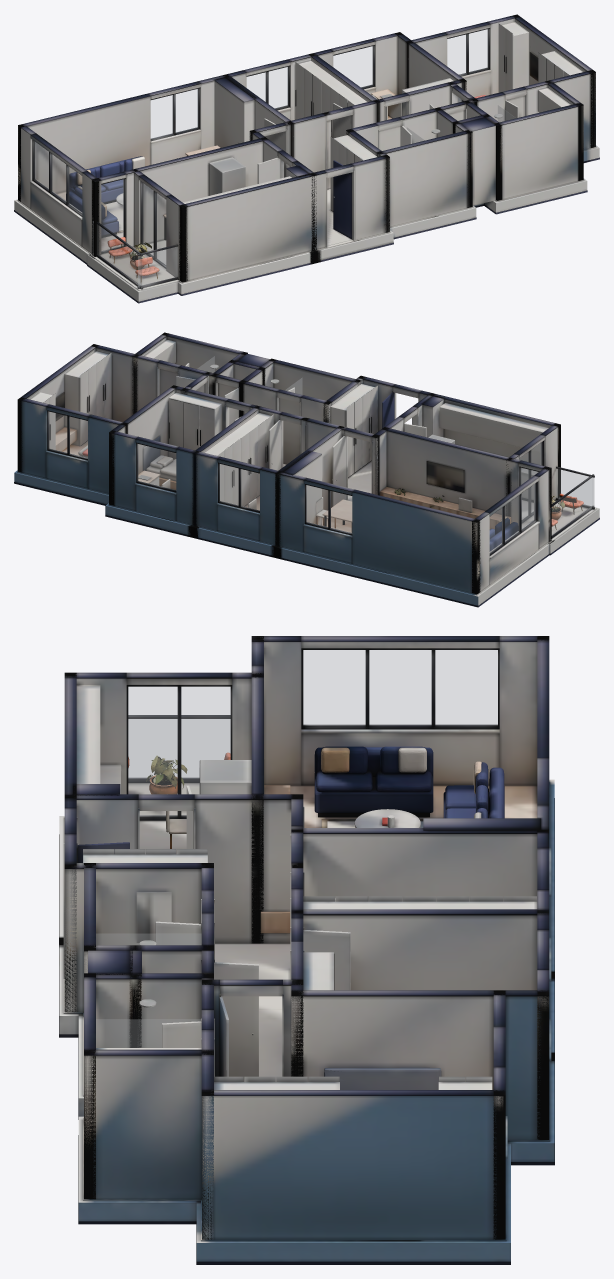
The picture shows the model from 3 angles, top to bottom: view 1: azimuth 30°, elevation 25°; view 2: azimuth 150°, elevation 25°; view 3: azimuth 270°, elevation 25°; orthographic projection. The views are drawn at different scales.
Visible parts, largest first — view 1: plan, glass1_m, glass0_m, glass4_m, glass5_m, railg3_m, glass6_m, railg2_m, glass3_m, glass2_m; view 2: plan, glass1_m, glass0_m, glass2_m, glass3_m, glass4_m, railg3_m, railg2_m, glass6_m; view 3: plan, glass0_m, glass5_m, railg3_m, sg.001_m, sg_m.
Boxes of the visible parts, bbox=[...] form: plan: bbox=[14, 14, 599, 303]; glass1_m: bbox=[151, 89, 198, 138]; glass0_m: bbox=[34, 141, 81, 213]; glass4_m: bbox=[447, 29, 488, 74]; glass5_m: bbox=[142, 182, 165, 265]; railg3_m: bbox=[97, 224, 141, 286]; glass6_m: bbox=[101, 179, 123, 250]; railg2_m: bbox=[138, 247, 177, 286]; glass3_m: bbox=[333, 46, 373, 87]; glass2_m: bbox=[247, 67, 288, 108]; plan: bbox=[14, 332, 599, 607]; glass1_m: bbox=[306, 485, 351, 533]; glass0_m: bbox=[490, 483, 535, 553]; glass2_m: bbox=[219, 464, 259, 510]; glass3_m: bbox=[137, 444, 175, 490]; glass4_m: bbox=[48, 412, 87, 458]; railg3_m: bbox=[552, 478, 592, 535]; railg2_m: bbox=[556, 469, 594, 506]; glass6_m: bbox=[520, 468, 537, 527]; plan: bbox=[59, 636, 554, 1264]; glass0_m: bbox=[303, 650, 497, 725]; glass5_m: bbox=[128, 687, 230, 815]; railg3_m: bbox=[129, 719, 229, 777]; sg.001_m: bbox=[96, 1019, 200, 1047]; sg_m: bbox=[96, 934, 201, 944].
Bounding box in the file's own units: 15.62 × 2.62 × 7.04.
2 materials, 1 textured.
